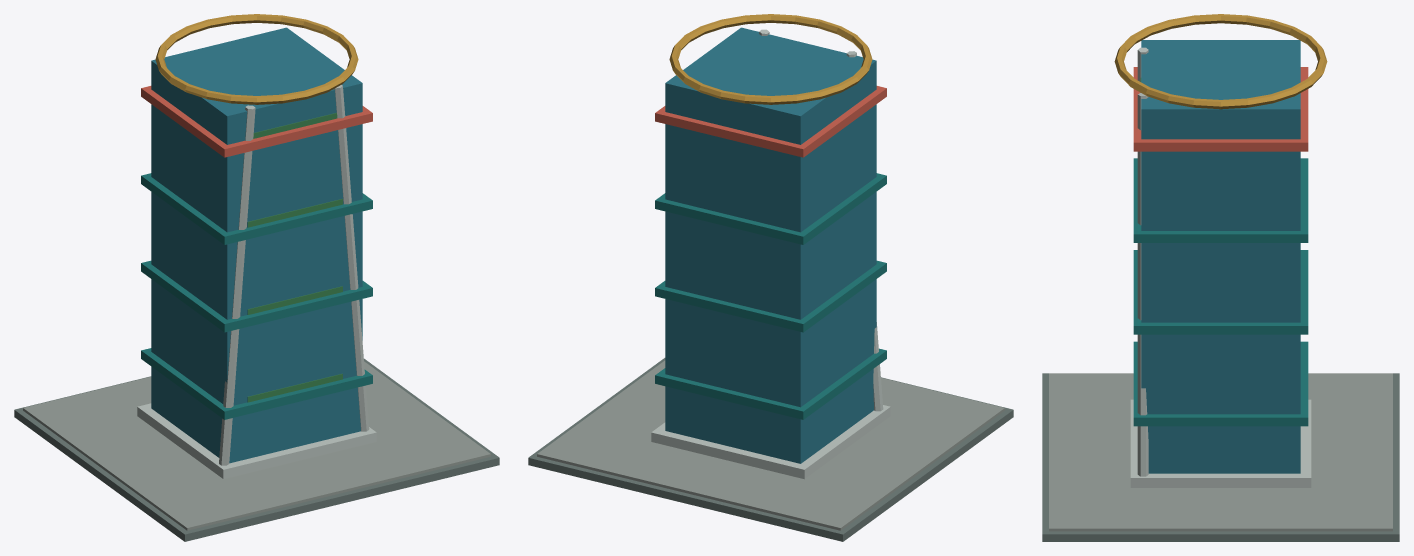
The model's file is civic_tower_lv1.glb.
3 renders of one model, left to right at view 1: azimuth 30°, elevation 25°; view 2: azimuth 150°, elevation 25°; view 3: azimuth 270°, elevation 25°, orthographic. The views are drawn at different scales.
Visible parts, largest first — view 1: glossy, rough; view 2: glossy, rough; view 3: rough, glossy.
Boxes of the visible parts, x1,y1,x2,y2 form: glossy: (151, 27, 362, 463); rough: (14, 14, 499, 541); glossy: (665, 27, 876, 463); rough: (528, 14, 1013, 541); rough: (1042, 14, 1399, 541); glossy: (1141, 40, 1300, 473).
Size of the model in its own units: 9.8 by 11.45 by 9.2.
